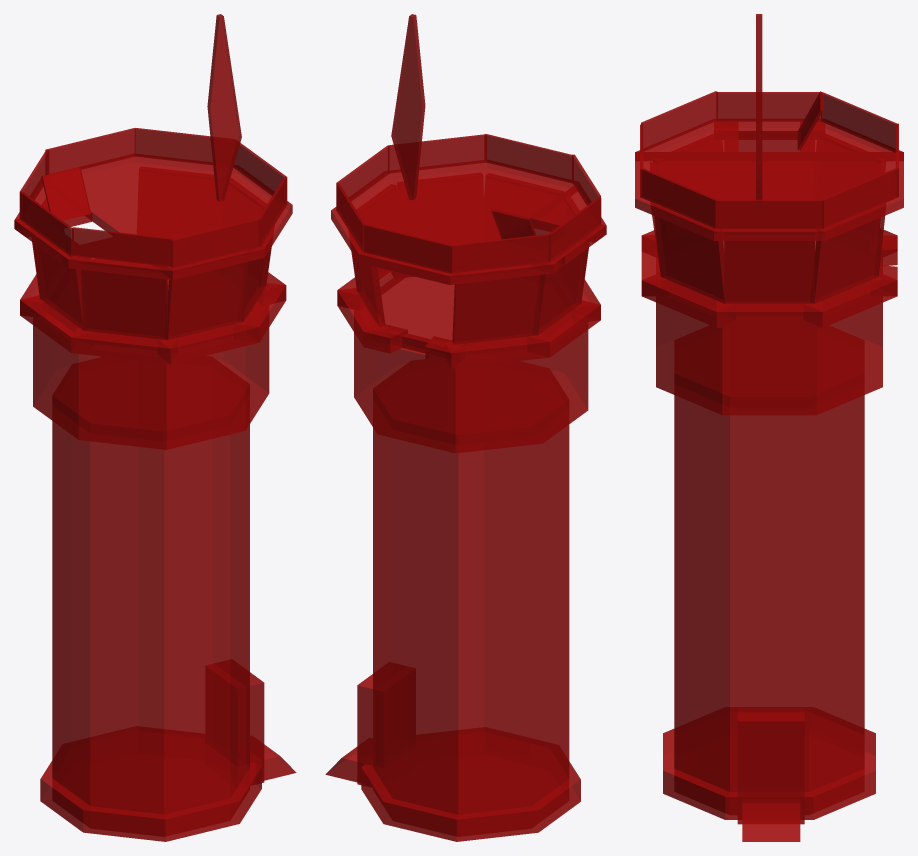
The model's file is SM_Bld_ControlTower_01_Collision.fbx.
3 views of the same model, side by side, from view 1: azimuth 30°, elevation 25°; view 2: azimuth 150°, elevation 25°; view 3: azimuth 270°, elevation 25° (orthographic). The views are drawn at different scales.
Visible parts, largest first — view 1: SM_Bld_ControlTower_01_Collision; view 2: SM_Bld_ControlTower_01_Collision; view 3: SM_Bld_ControlTower_01_Collision.
Boxes of the visible parts, box(x1,y1,x2,y2) form: SM_Bld_ControlTower_01_Collision: box(14, 14, 296, 841); SM_Bld_ControlTower_01_Collision: box(325, 14, 606, 841); SM_Bld_ControlTower_01_Collision: box(635, 14, 903, 841).
Bounding box in the file's own units: 977 × 2959 × 909.
